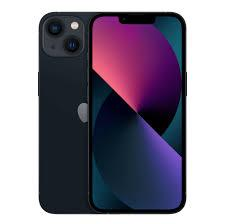Smartphone: (89, 16, 180, 212), (38, 13, 98, 209)
